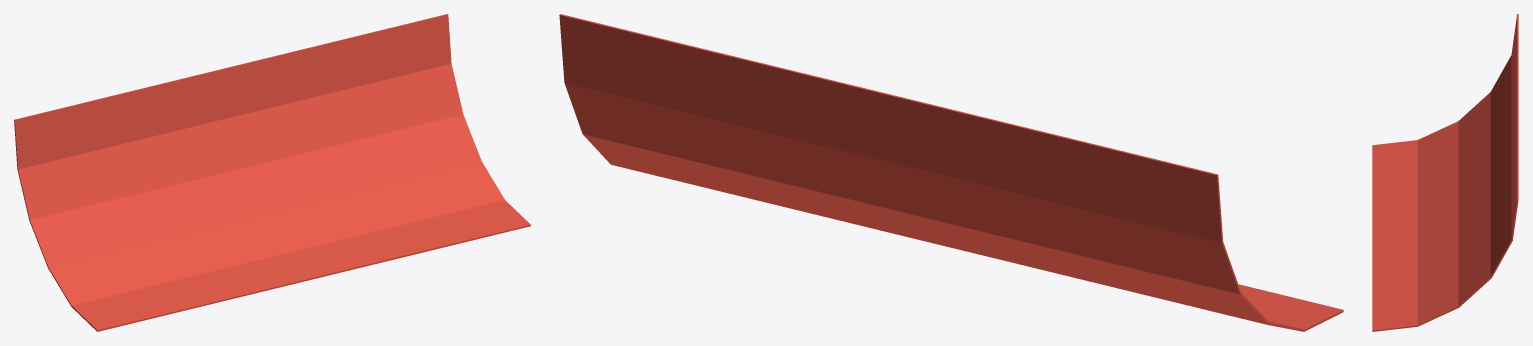
File: SM_Greenscreen_Plane_Edge_3m.fbx
3 views of the same model, side by side, from view 1: azimuth 30°, elevation 25°; view 2: azimuth 150°, elevation 25°; view 3: azimuth 270°, elevation 25° (orthographic). The views are drawn at different scales.
Parts seen in each view (by area): view 1: SM_Greenscreen_Plane_Edge_3m; view 2: SM_Greenscreen_Plane_Edge_3m; view 3: SM_Greenscreen_Plane_Edge_3m.
Part boxes in pixels (bbox=[...]): SM_Greenscreen_Plane_Edge_3m: bbox=[14, 14, 530, 331]; SM_Greenscreen_Plane_Edge_3m: bbox=[559, 14, 1343, 331]; SM_Greenscreen_Plane_Edge_3m: bbox=[1372, 14, 1518, 331].
Bounding box in the file's own units: 100 × 300 × 100.
